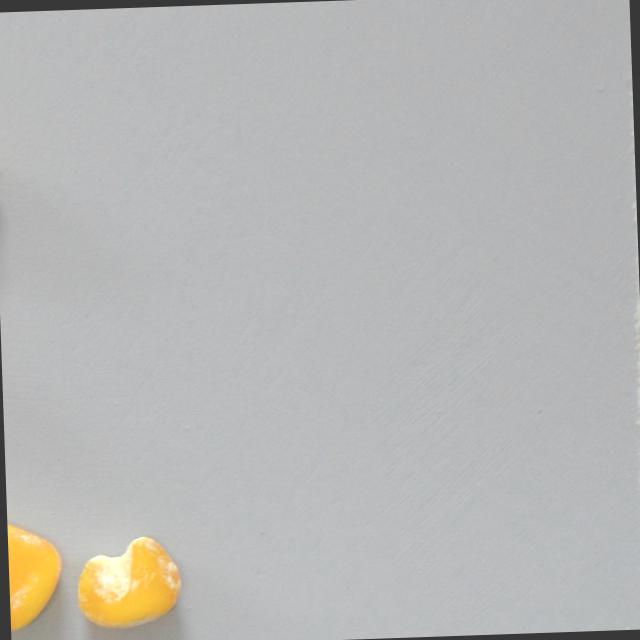dañado: (68, 529, 186, 634), (6, 509, 68, 635)
